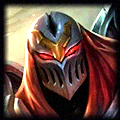Zed: (4, 4, 119, 117)
